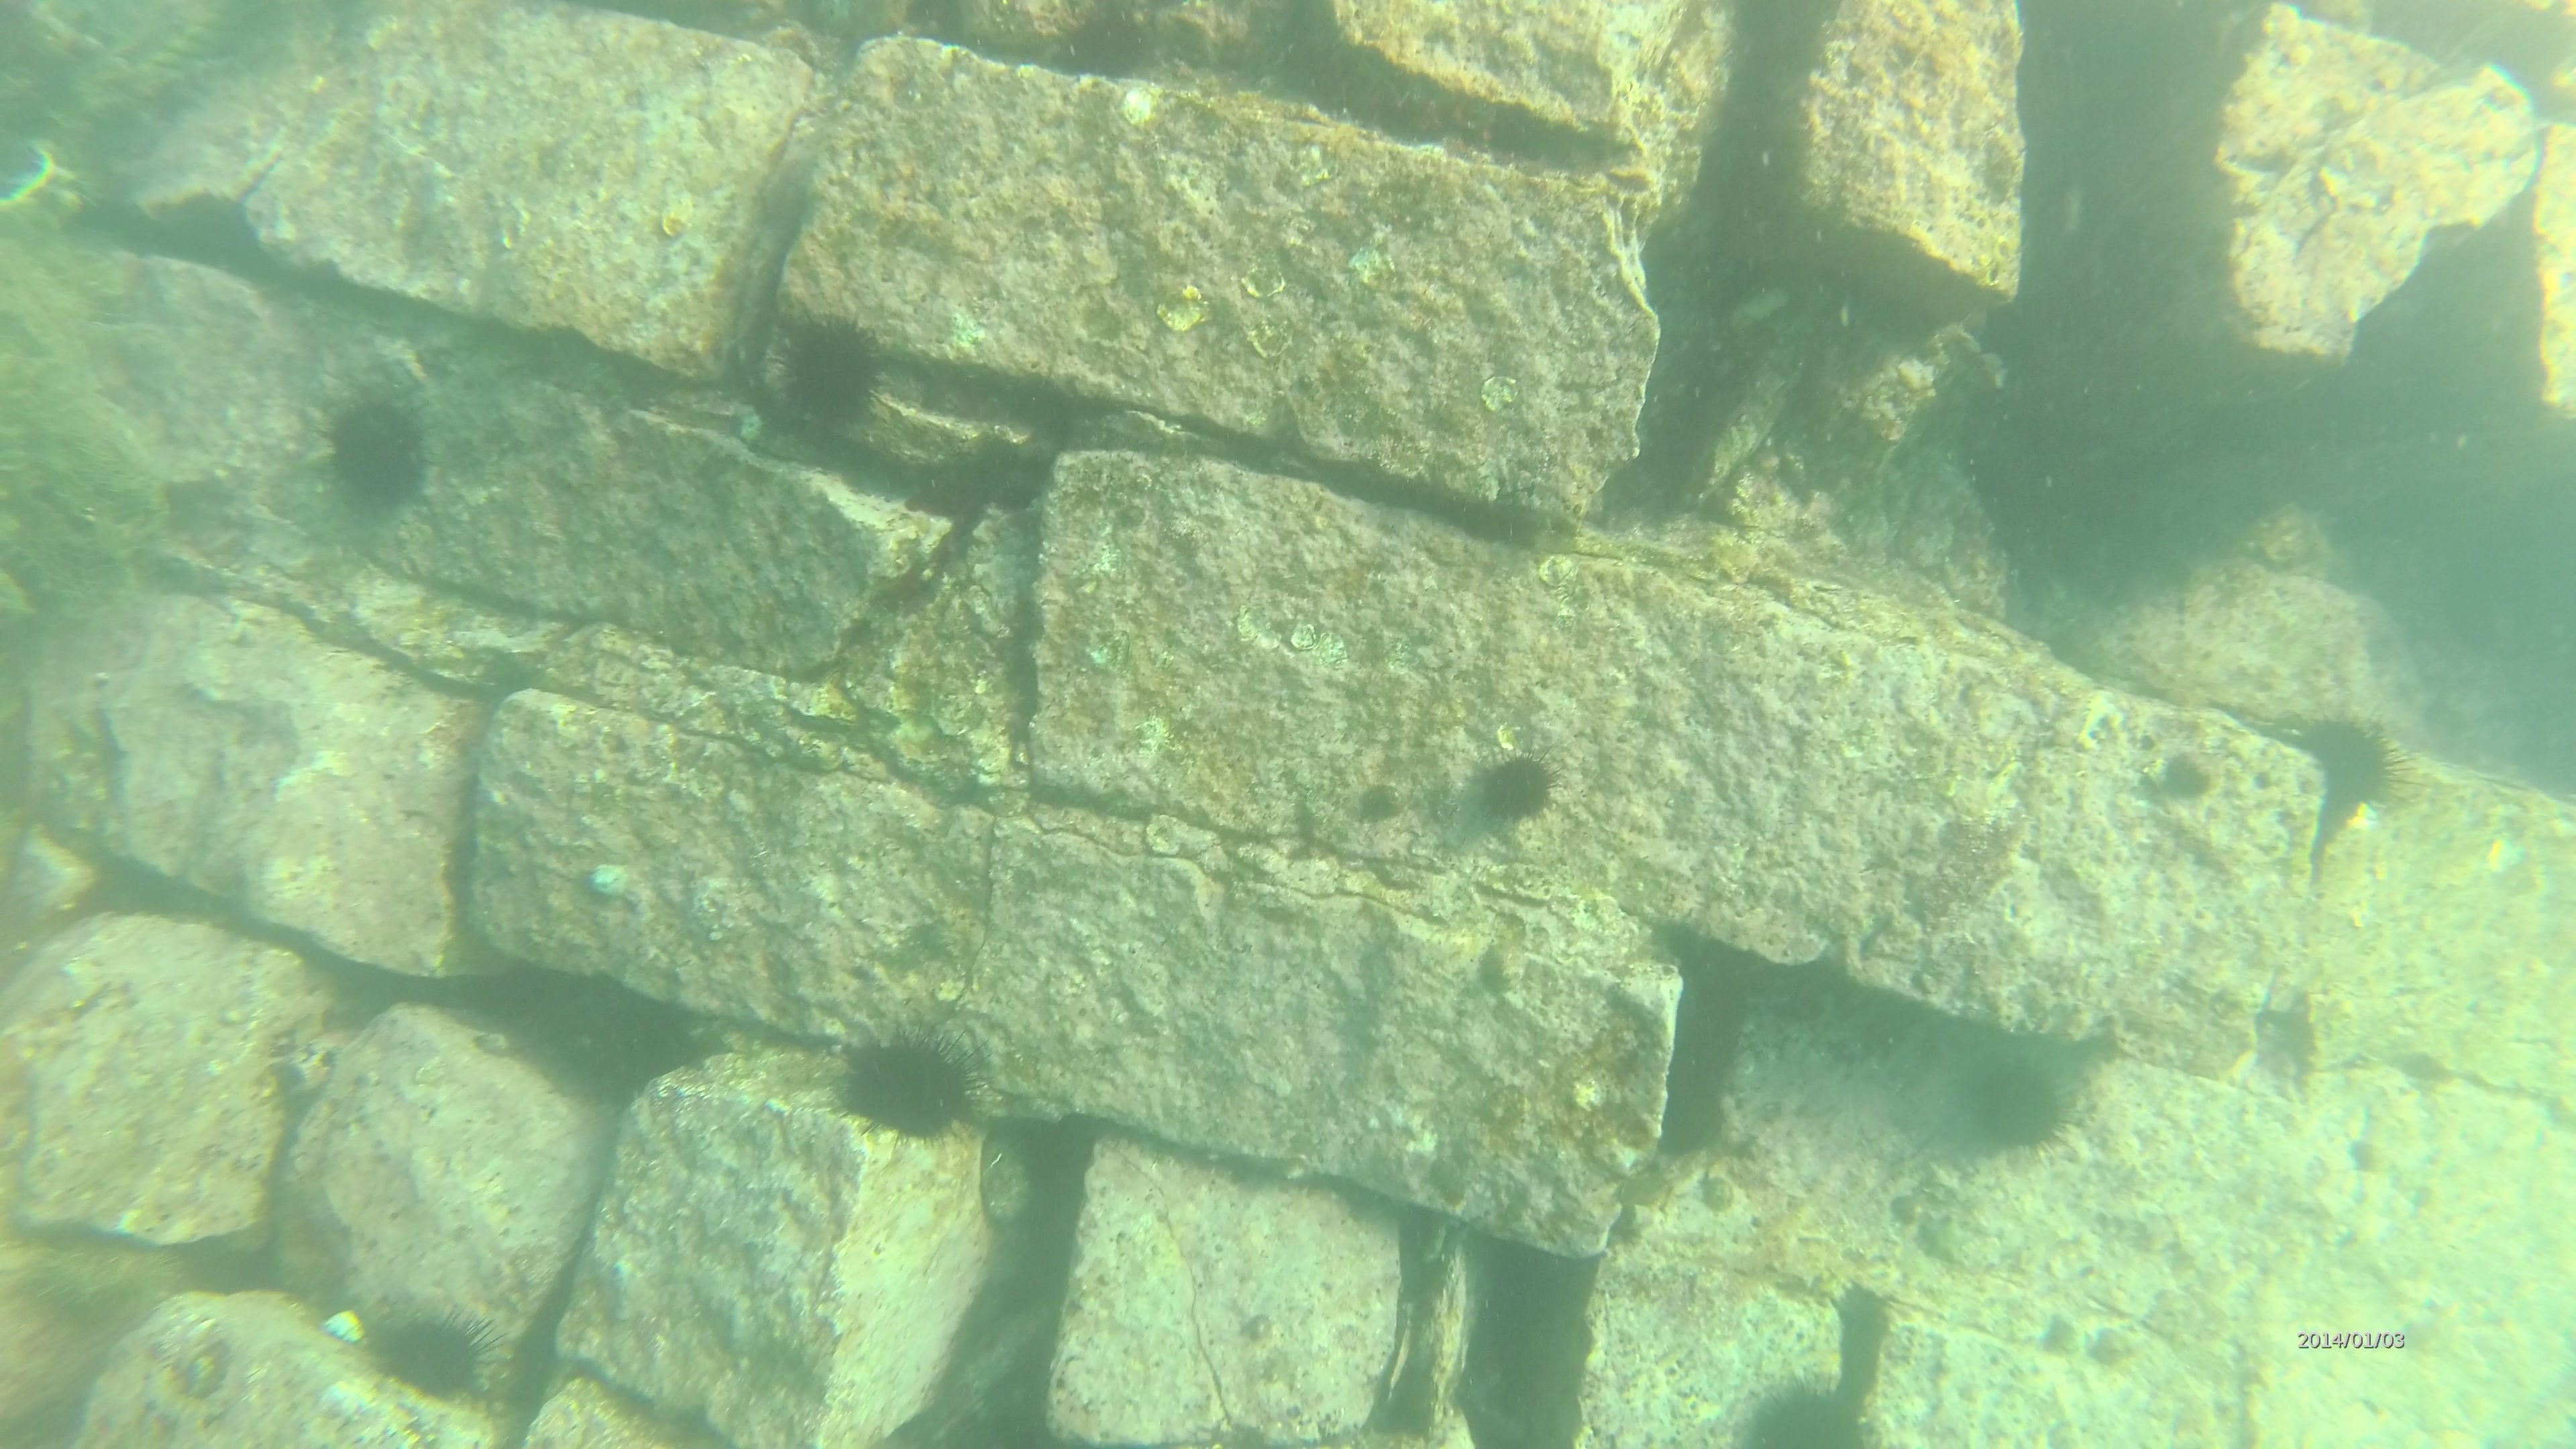echinus: (770, 297, 902, 441), (847, 1030, 994, 1155), (2284, 706, 2426, 823), (324, 391, 444, 522), (366, 1304, 518, 1407), (1976, 1063, 2088, 1159), (1743, 1375, 1882, 1449), (1067, 0, 1162, 83), (1481, 741, 1568, 823)
